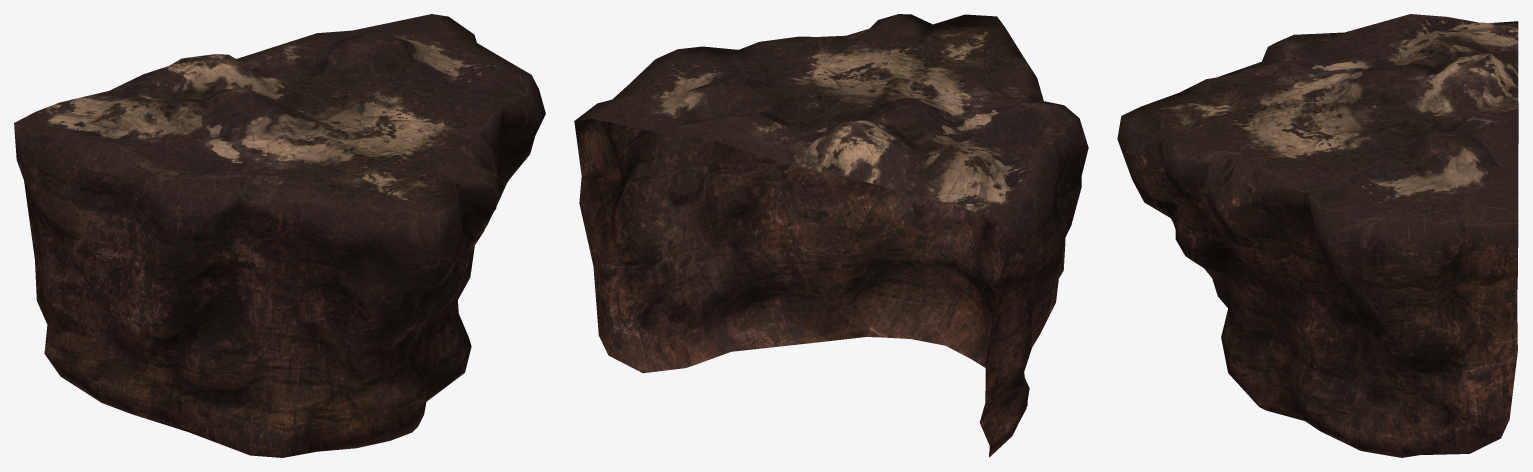
The model's file is canyon_red_ridge02.dae.
3 renders of one model, left to right at view 1: azimuth 30°, elevation 25°; view 2: azimuth 150°, elevation 25°; view 3: azimuth 270°, elevation 25°, orthographic. The views are drawn at different scales.
Parts seen in each view (by area): view 1: Mesh; view 2: Mesh; view 3: Mesh.
Part boxes in pixels (x1,y1,x2,y2): Mesh: [14, 14, 545, 457]; Mesh: [574, 14, 1088, 457]; Mesh: [1117, 14, 1518, 457].
Bounding box in the file's own units: 25.32 × 16.85 × 20.29.
